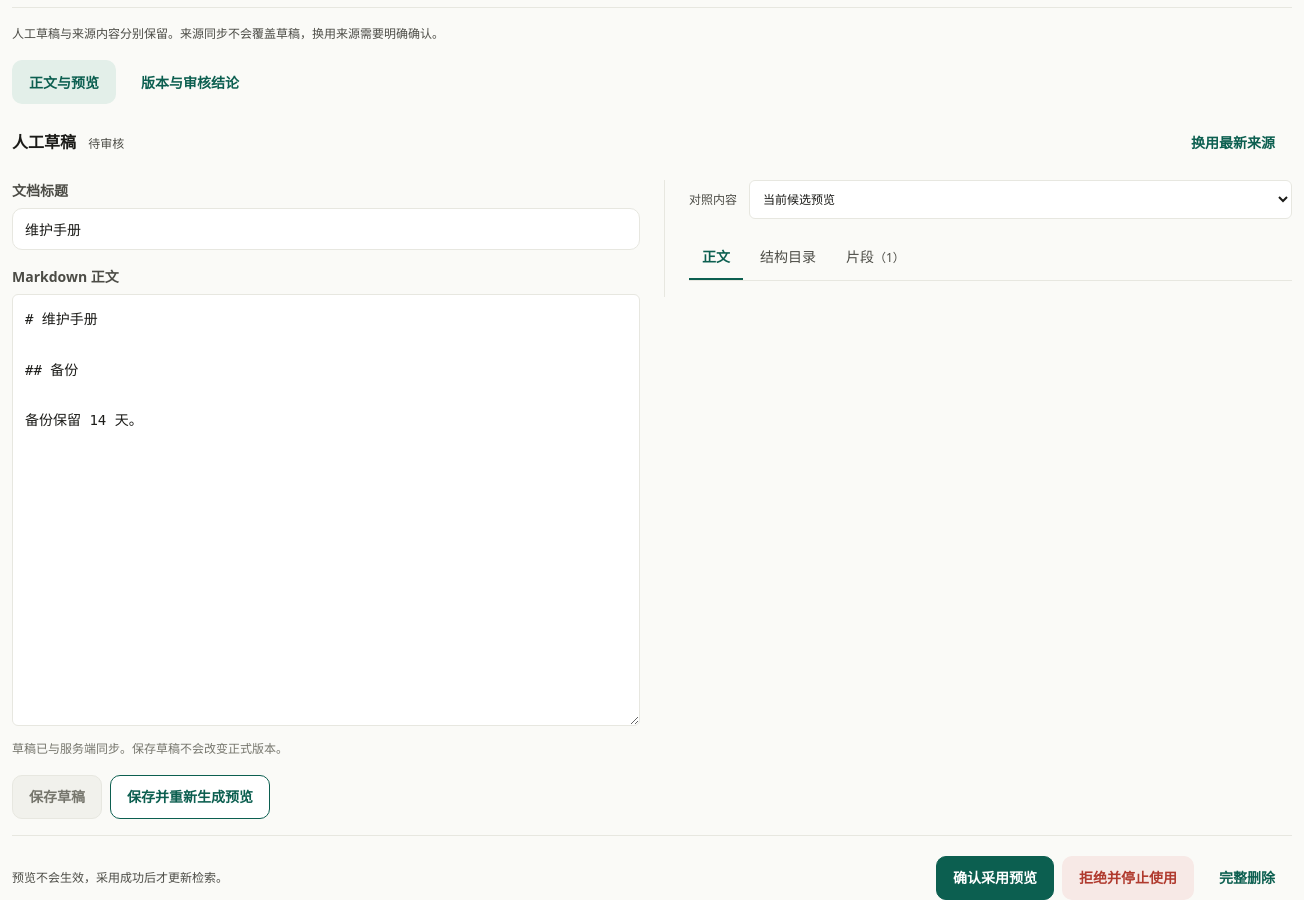
Test: 文档审核 › 打开确认后目标更新会撤销旧确认，不能把新预览当成已检查结果采用
This screenshot has width=1304, height=900.
(page scrolled)
Click the button "确认采用预览": (995, 878) [936,856,1054,899]
(page scrolled)
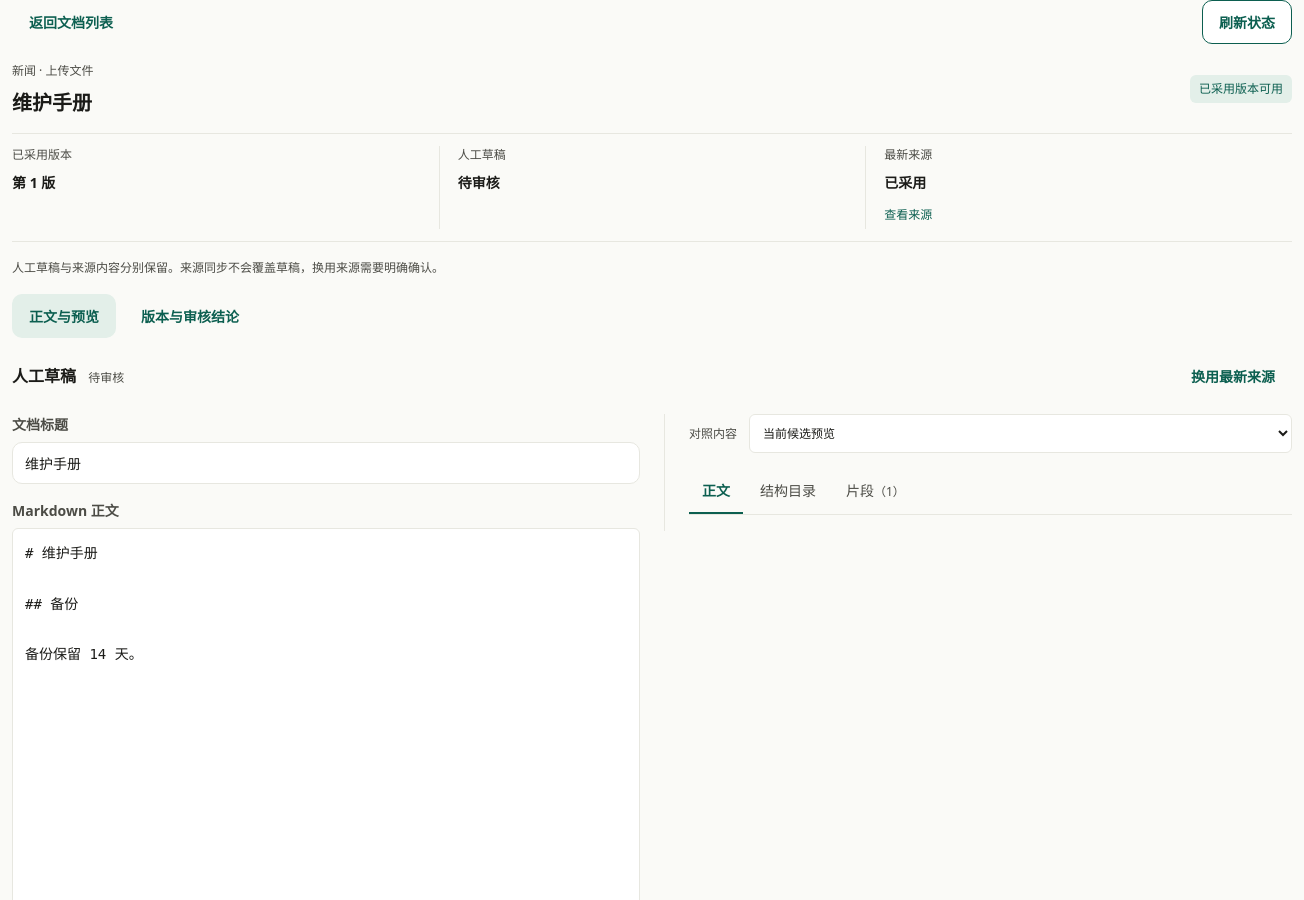
Click the button "刷新状态": (1247, 22) [1202,0,1292,44]
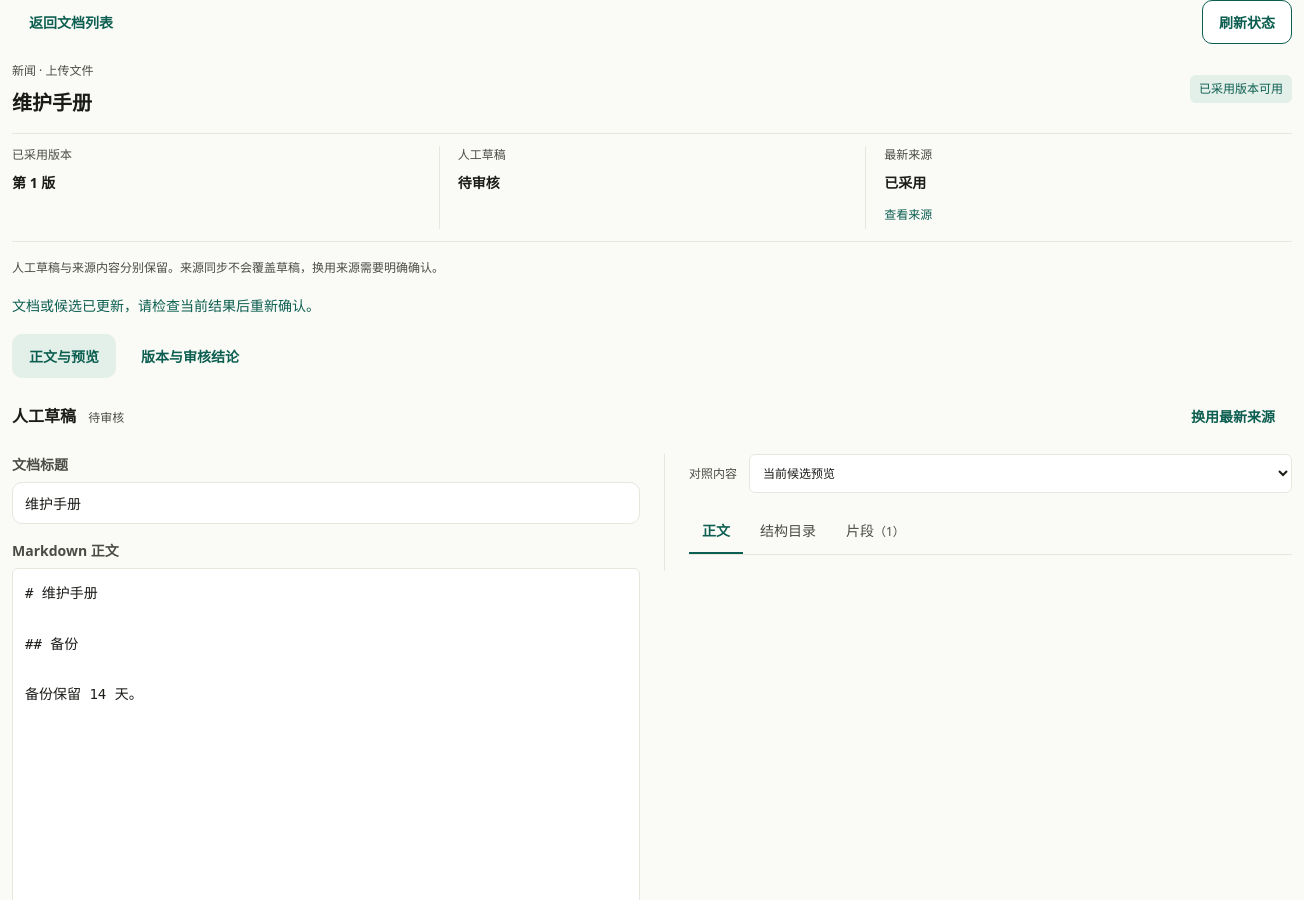
Expected: the text "重新确认" is shown, [12,296,320,315]
